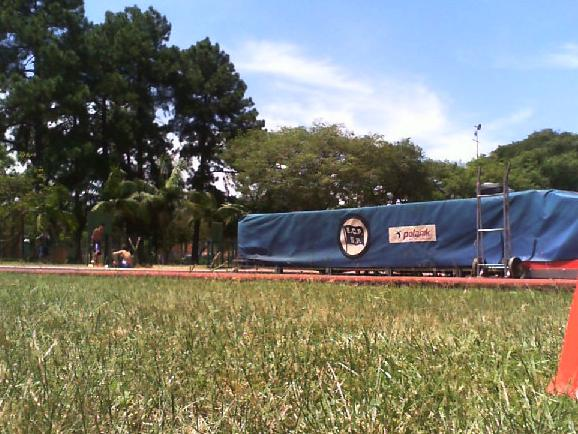0 cone: (546, 219, 578, 406)
